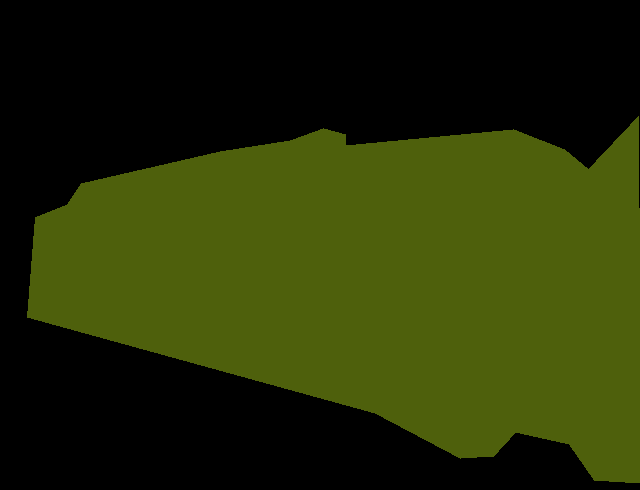Train: (27, 116, 640, 483)
